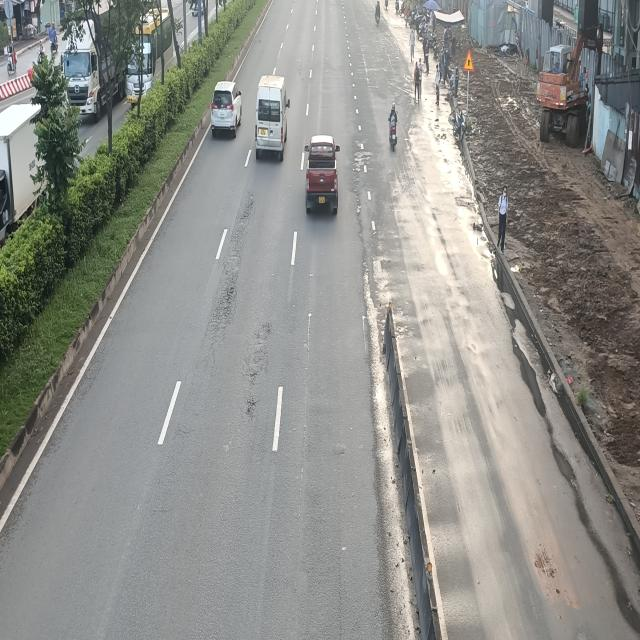car: (306, 134, 342, 216), (210, 81, 242, 138)
van: (255, 74, 290, 160)
